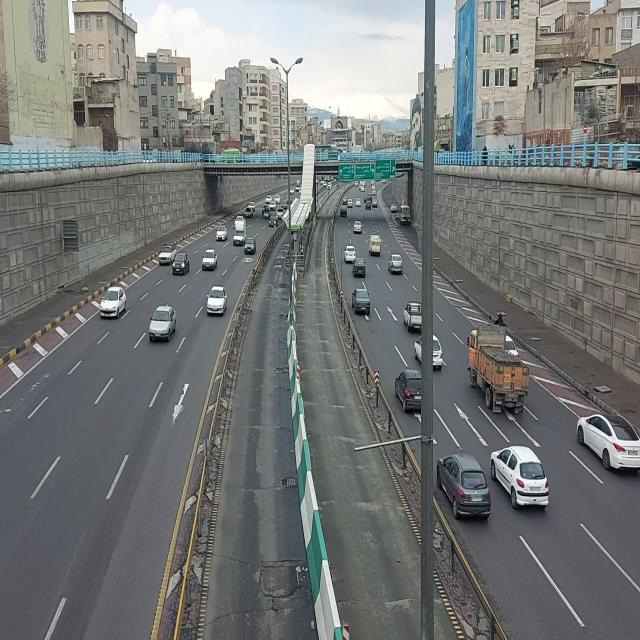Car: (575, 410, 640, 474), (490, 445, 551, 510), (438, 453, 493, 519), (148, 304, 178, 344), (98, 286, 128, 320), (206, 285, 228, 317), (349, 286, 371, 316), (172, 252, 191, 276), (202, 248, 219, 272), (388, 253, 404, 274), (215, 223, 229, 243)
Pickup: (402, 297, 422, 335), (158, 241, 177, 265), (233, 218, 247, 248)
Truck: (467, 323, 531, 419)
